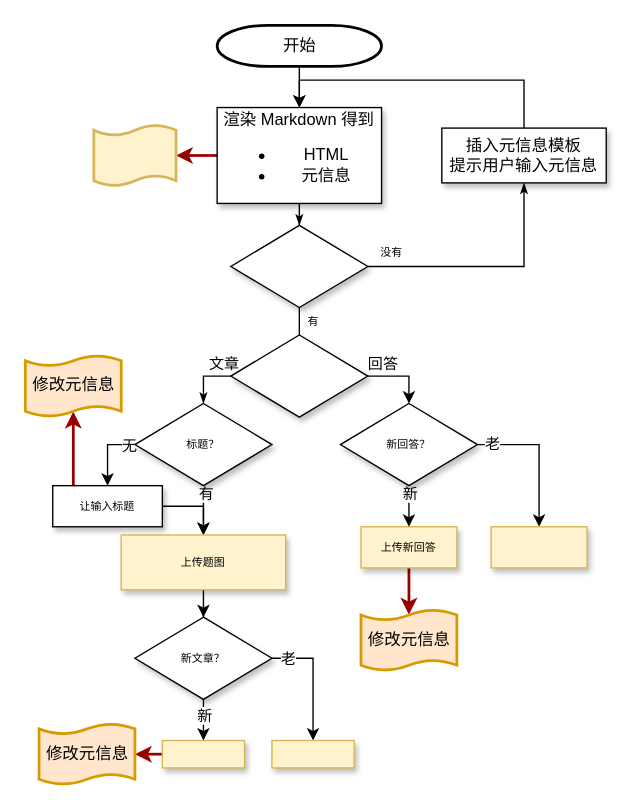
The diagram is 638 pixels wide and 810 high, and some of its shapes have lost their labels. The centre of each missing label's shape, as x and y in pixels:
上传图片: the point at 134,154
上传新文章: the point at 204,755
修改老回答: the point at 539,548
修改老文章: the point at 313,755
元信息: the point at 300,268
文章还是回答: the point at 300,377
